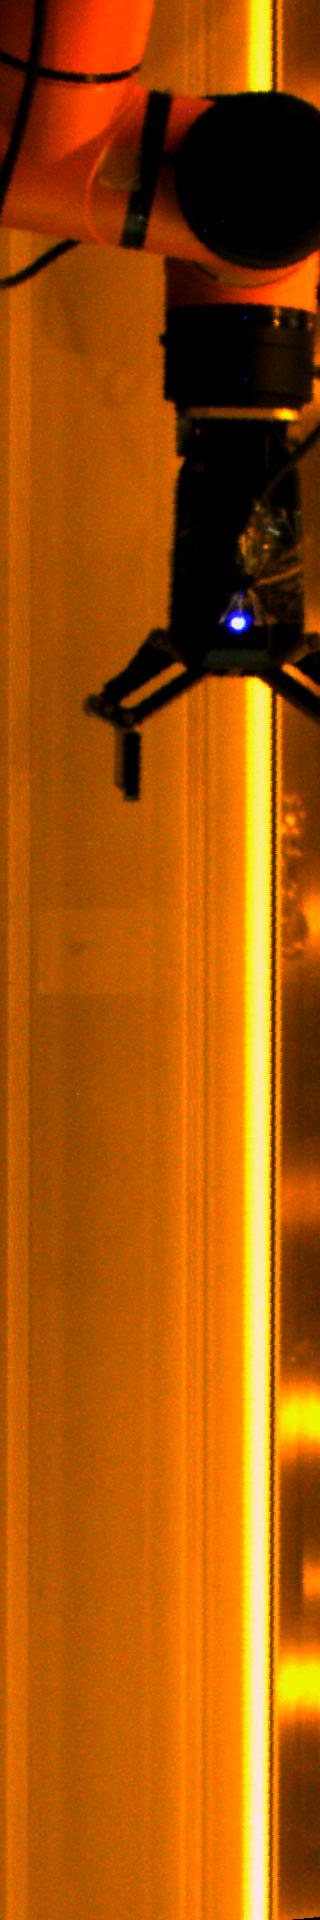keyPoint_1: (224, 609, 254, 638)
